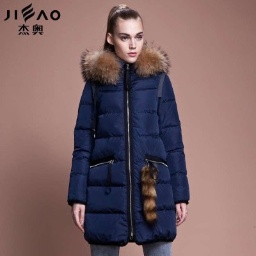face: (95, 2, 151, 65)
